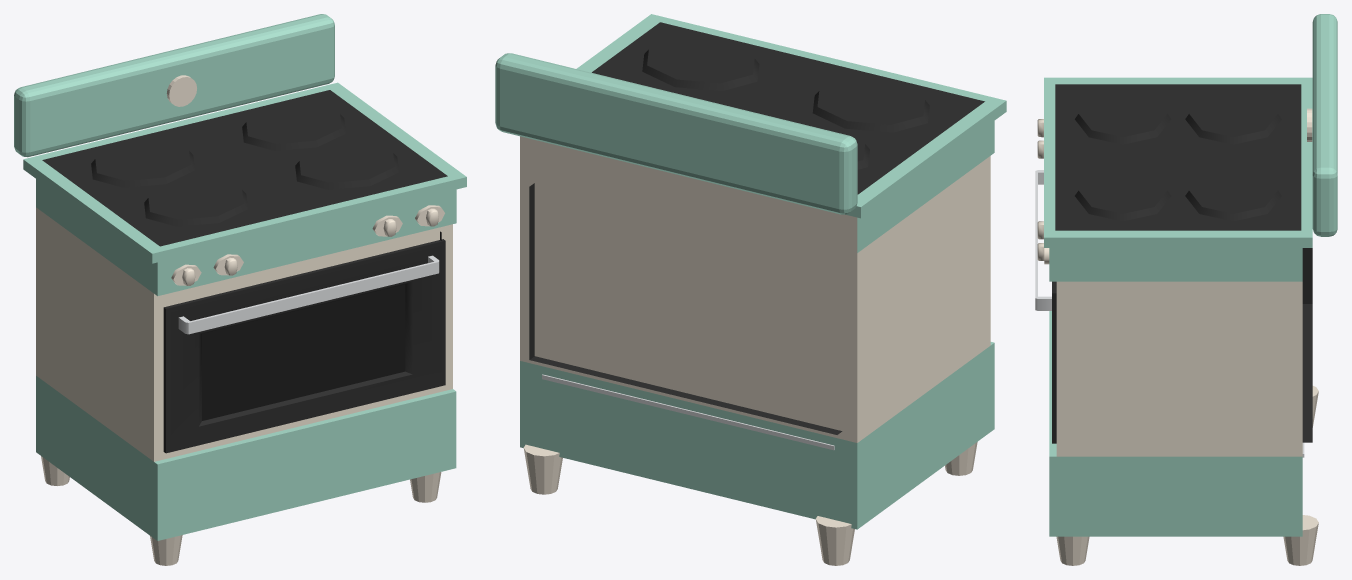
Rendered from stove_c.glb.
3 views of the same model, side by side, from view 1: azimuth 30°, elevation 25°; view 2: azimuth 150°, elevation 25°; view 3: azimuth 270°, elevation 25° (orthographic). The views are drawn at different scales.
Visible parts, largest first — view 1: body, door; view 2: body; view 3: body, door.
Boxes of the visible parts, box(x1,y1,x2,y2) form: body: box(14, 14, 466, 565); door: box(154, 224, 455, 464); body: box(495, 14, 1006, 565); body: box(1037, 14, 1337, 565); door: box(1035, 170, 1056, 456).
Bounding box in the file's own units: 0.9 × 1.06 × 0.72.
